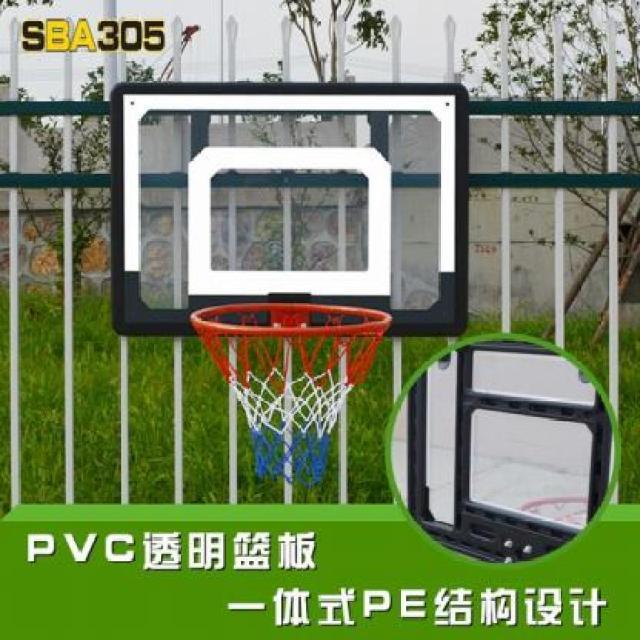rim: (192, 302, 392, 486)
